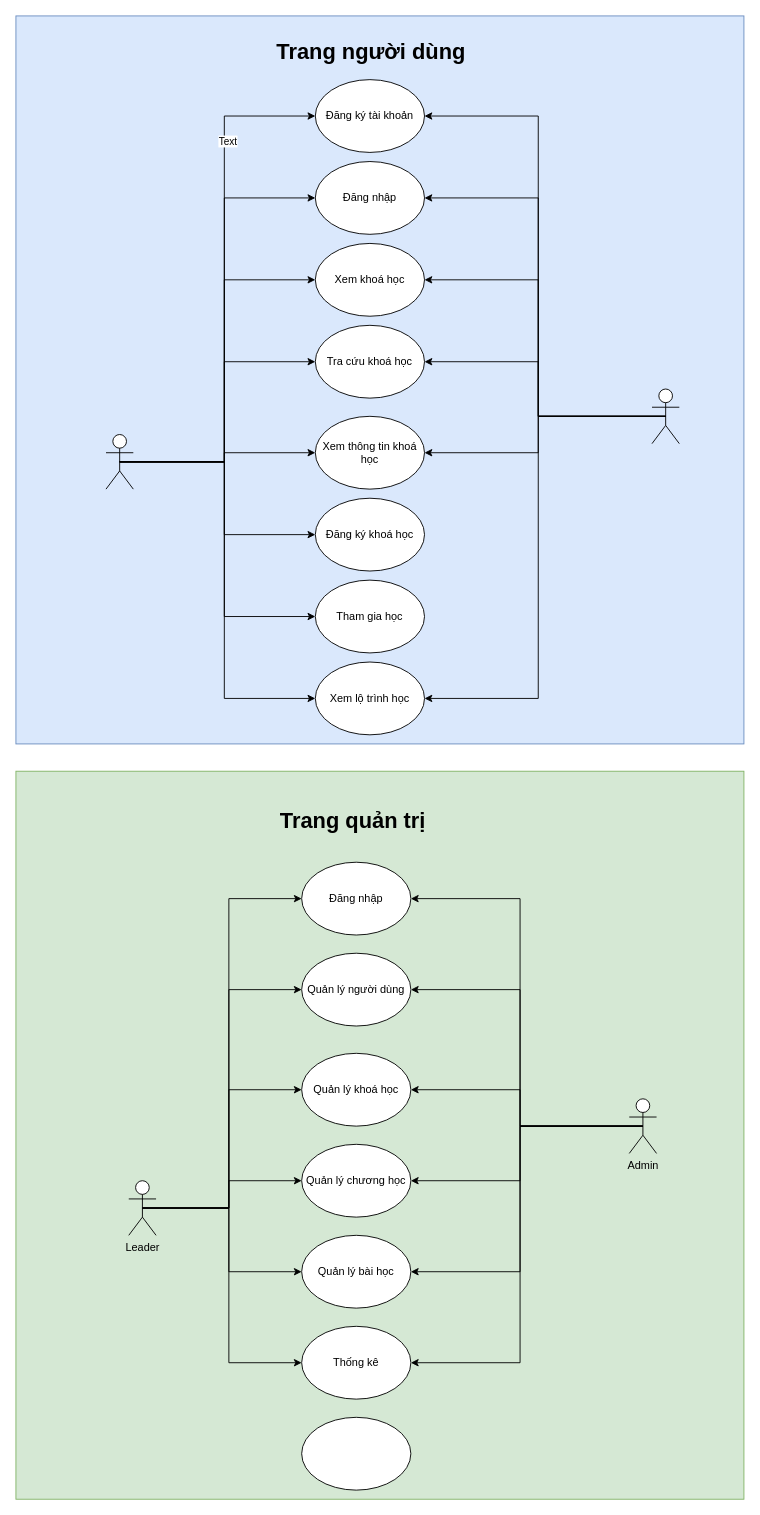
The diagram is 760 pixels wide and 1515 high, and some of its shapes have lost their labels. The box of each missing label's shape, as (x1, y1, x2, y2) in pixels:
Học viên: (105, 434, 133, 489)
Khách: (651, 388, 679, 444)
Tại tài khoản: (301, 1416, 411, 1490)
